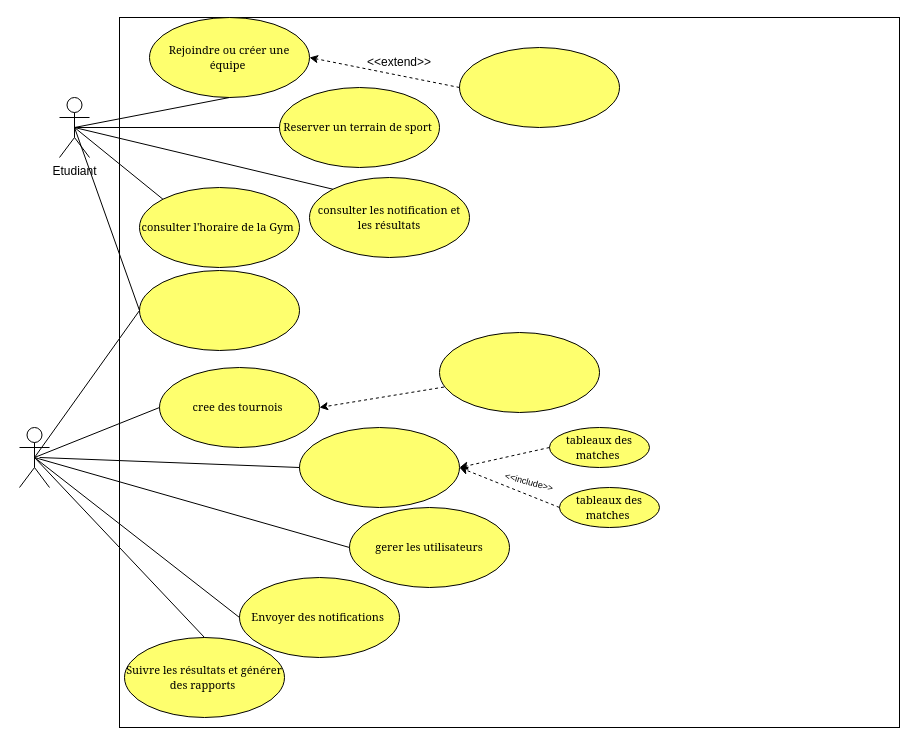
The diagram is 917 pixels wide and 745 high, and some of its shapes have lost their labels. The shapes that lost their labels are listed below. From the top down, each one's box as (x1, y1, x2, y2) in pixels, then its label:
(458, 46, 620, 128): s'inscrire aux tournois
(138, 270, 300, 350): sing-up et login
(438, 332, 600, 412): Definir les details du tournoi Nom, Date ,regles ,etc
(18, 426, 50, 488): Admin
(298, 426, 460, 508): planifier les matches
